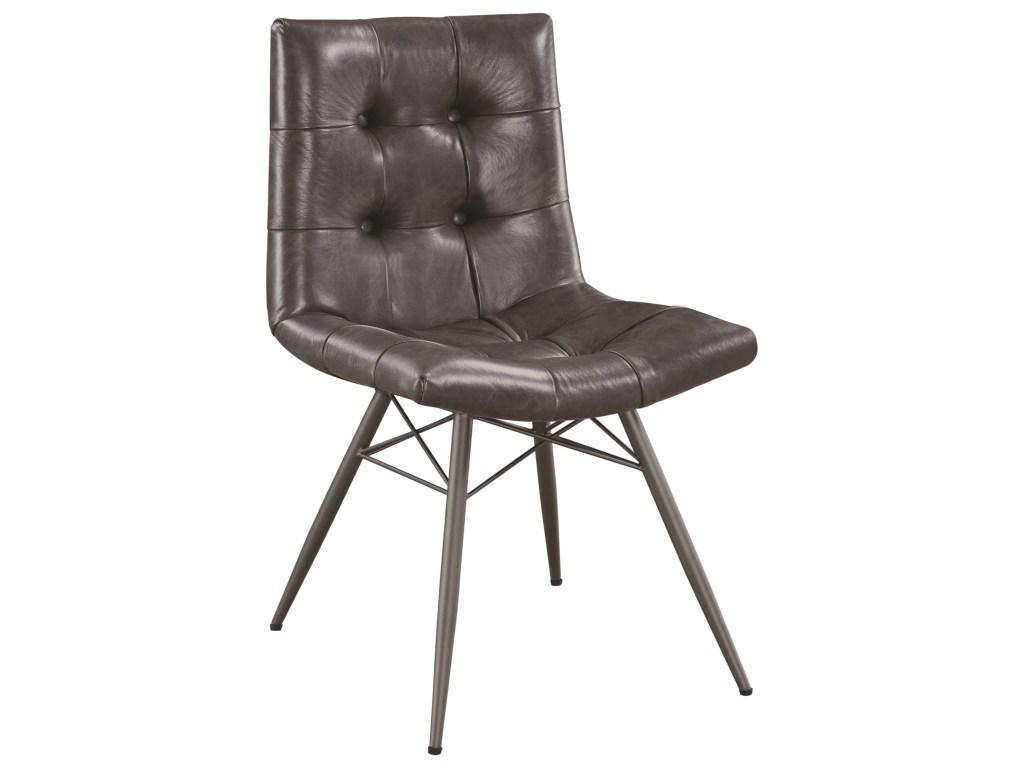chair: (172, 13, 854, 768)
